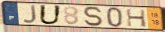0: (106, 7, 124, 28)
8: (63, 6, 81, 27)
H: (126, 8, 148, 28)
J: (21, 5, 38, 25)
S: (82, 6, 105, 27)
U: (38, 4, 63, 26)
